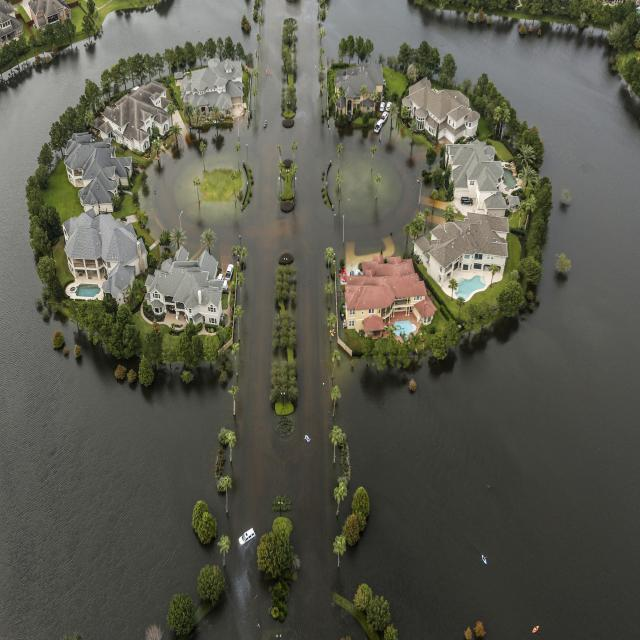flood: (330, 0, 640, 640), (0, 0, 242, 640), (231, 0, 340, 640), (140, 134, 249, 261), (330, 118, 431, 254), (200, 118, 255, 170)
house: (417, 210, 510, 306), (342, 248, 434, 333), (146, 248, 234, 336), (58, 206, 124, 288), (448, 140, 520, 212), (102, 86, 162, 160), (409, 81, 478, 145), (184, 60, 242, 125), (330, 62, 386, 124), (63, 128, 106, 202), (29, 0, 72, 46), (0, 7, 24, 40)
